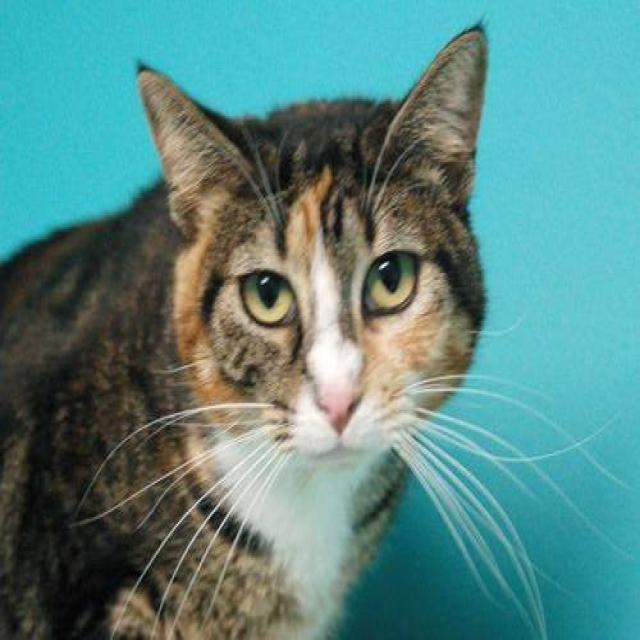cat: (0, 17, 636, 638)
